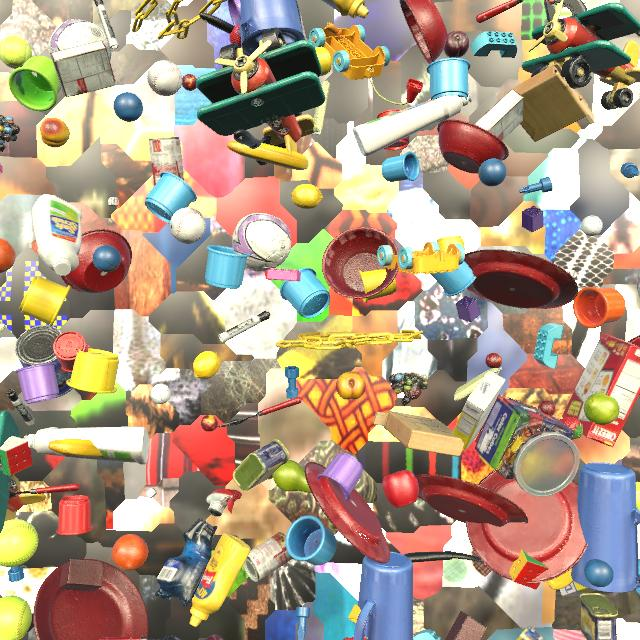ycb_002_master_chef_can: (15, 325, 73, 397)
ycb_003_cracker_box: (562, 333, 640, 447)
ycb_004_sugar_box: (452, 371, 506, 451), (560, 581, 596, 597)
ycb_005_tomato_soup_can: (243, 532, 294, 582), (149, 137, 184, 186)
ycb_006_mustard_bottle: (190, 532, 251, 627), (322, 0, 369, 19), (546, 569, 574, 590)
ycb_008_pudding_box: (50, 40, 116, 97), (474, 88, 524, 141)
ycb_010_potted_meat_can: (233, 439, 290, 491), (579, 593, 618, 640), (516, 626, 545, 640)
ycb_011_banana: (227, 140, 309, 170), (48, 439, 102, 457)
ycb_012_strawberry: (560, 417, 583, 439), (229, 24, 241, 48)
ycb_013_apple: (382, 470, 419, 508)
ycb_014_lemon: (291, 184, 323, 209), (193, 351, 221, 379)
ycb_015_peach: (40, 117, 70, 148), (336, 372, 366, 400)
ycb_016_pear: (272, 460, 311, 493), (584, 393, 619, 425)
ycb_017_orange: (112, 534, 148, 571), (0, 238, 15, 273)
ycb_018_plum: (444, 31, 469, 58), (205, 634, 225, 640)
